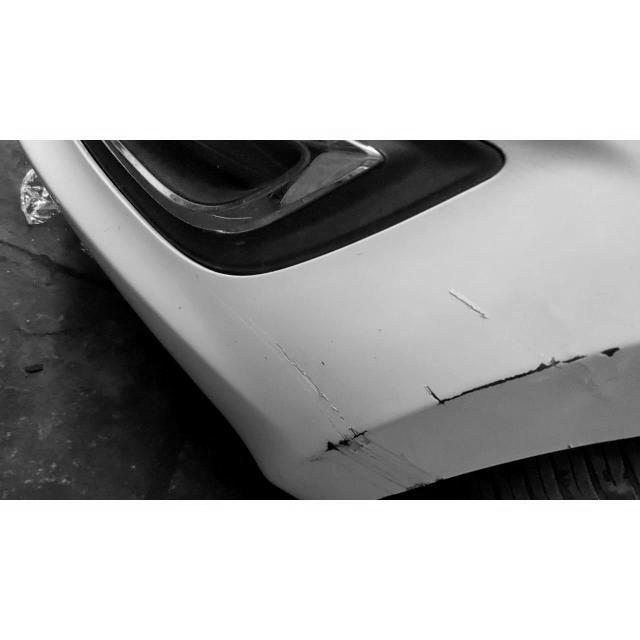front-bumper-dent: (215, 141, 640, 500)
